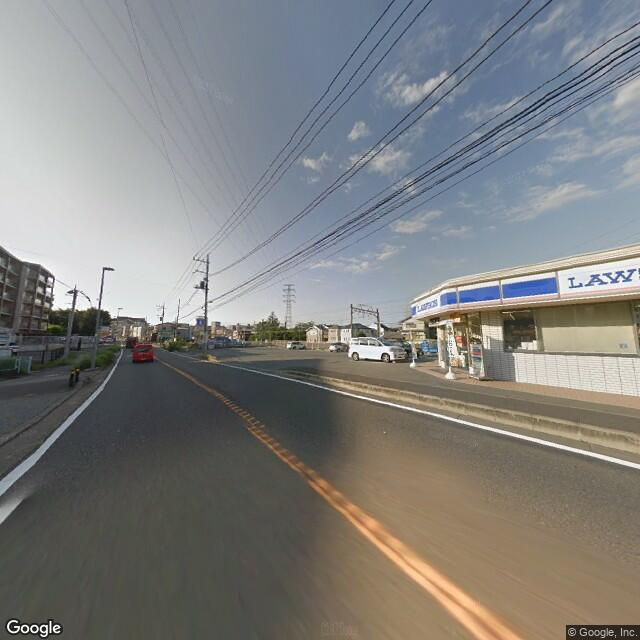lawson: (409, 250, 638, 319)
